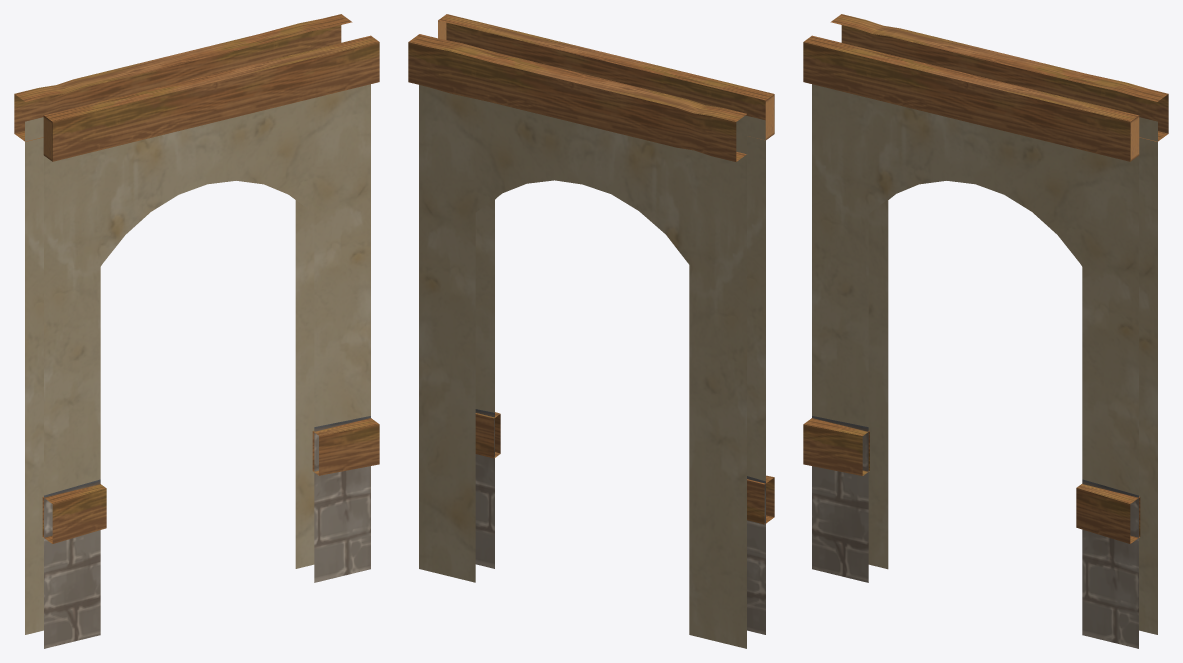
Rendered from Wall_Plaster_Door_Round.glb.
The picture shows the model from 3 angles, left to right: view 1: azimuth 30°, elevation 25°; view 2: azimuth 150°, elevation 25°; view 3: azimuth 330°, elevation 25°; orthographic projection.
Visible parts, largest first — view 1: Wall_Plaster_Door_Round; view 2: Wall_Plaster_Door_Round; view 3: Wall_Plaster_Door_Round.
Part boxes in pixels (box(x1,y1,x2,y2)): Wall_Plaster_Door_Round: box(14, 14, 379, 648); Wall_Plaster_Door_Round: box(408, 14, 774, 648); Wall_Plaster_Door_Round: box(803, 14, 1168, 648).
Bounding box in the file's own units: 2 × 3.12 × 0.4065.
3 materials, 3 textured.
